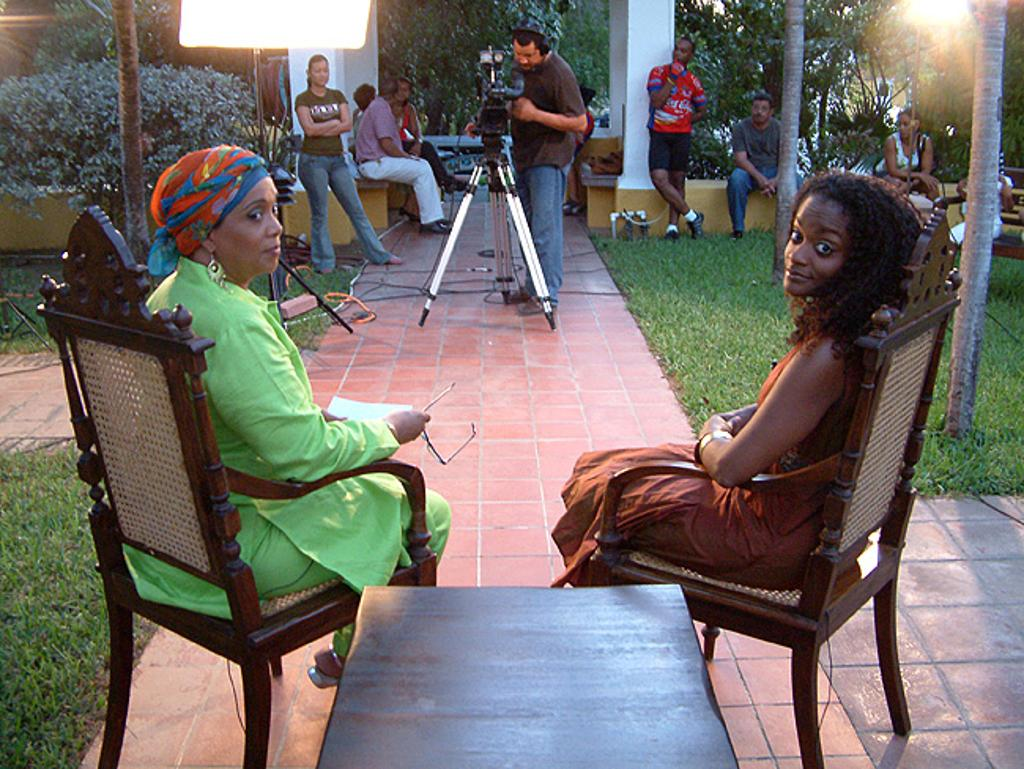face: (783, 195, 848, 296), (215, 177, 283, 273), (513, 40, 539, 70), (673, 38, 692, 64), (310, 60, 327, 86), (752, 99, 770, 122), (899, 113, 914, 139), (394, 80, 408, 101), (355, 95, 371, 113), (393, 98, 404, 114)
